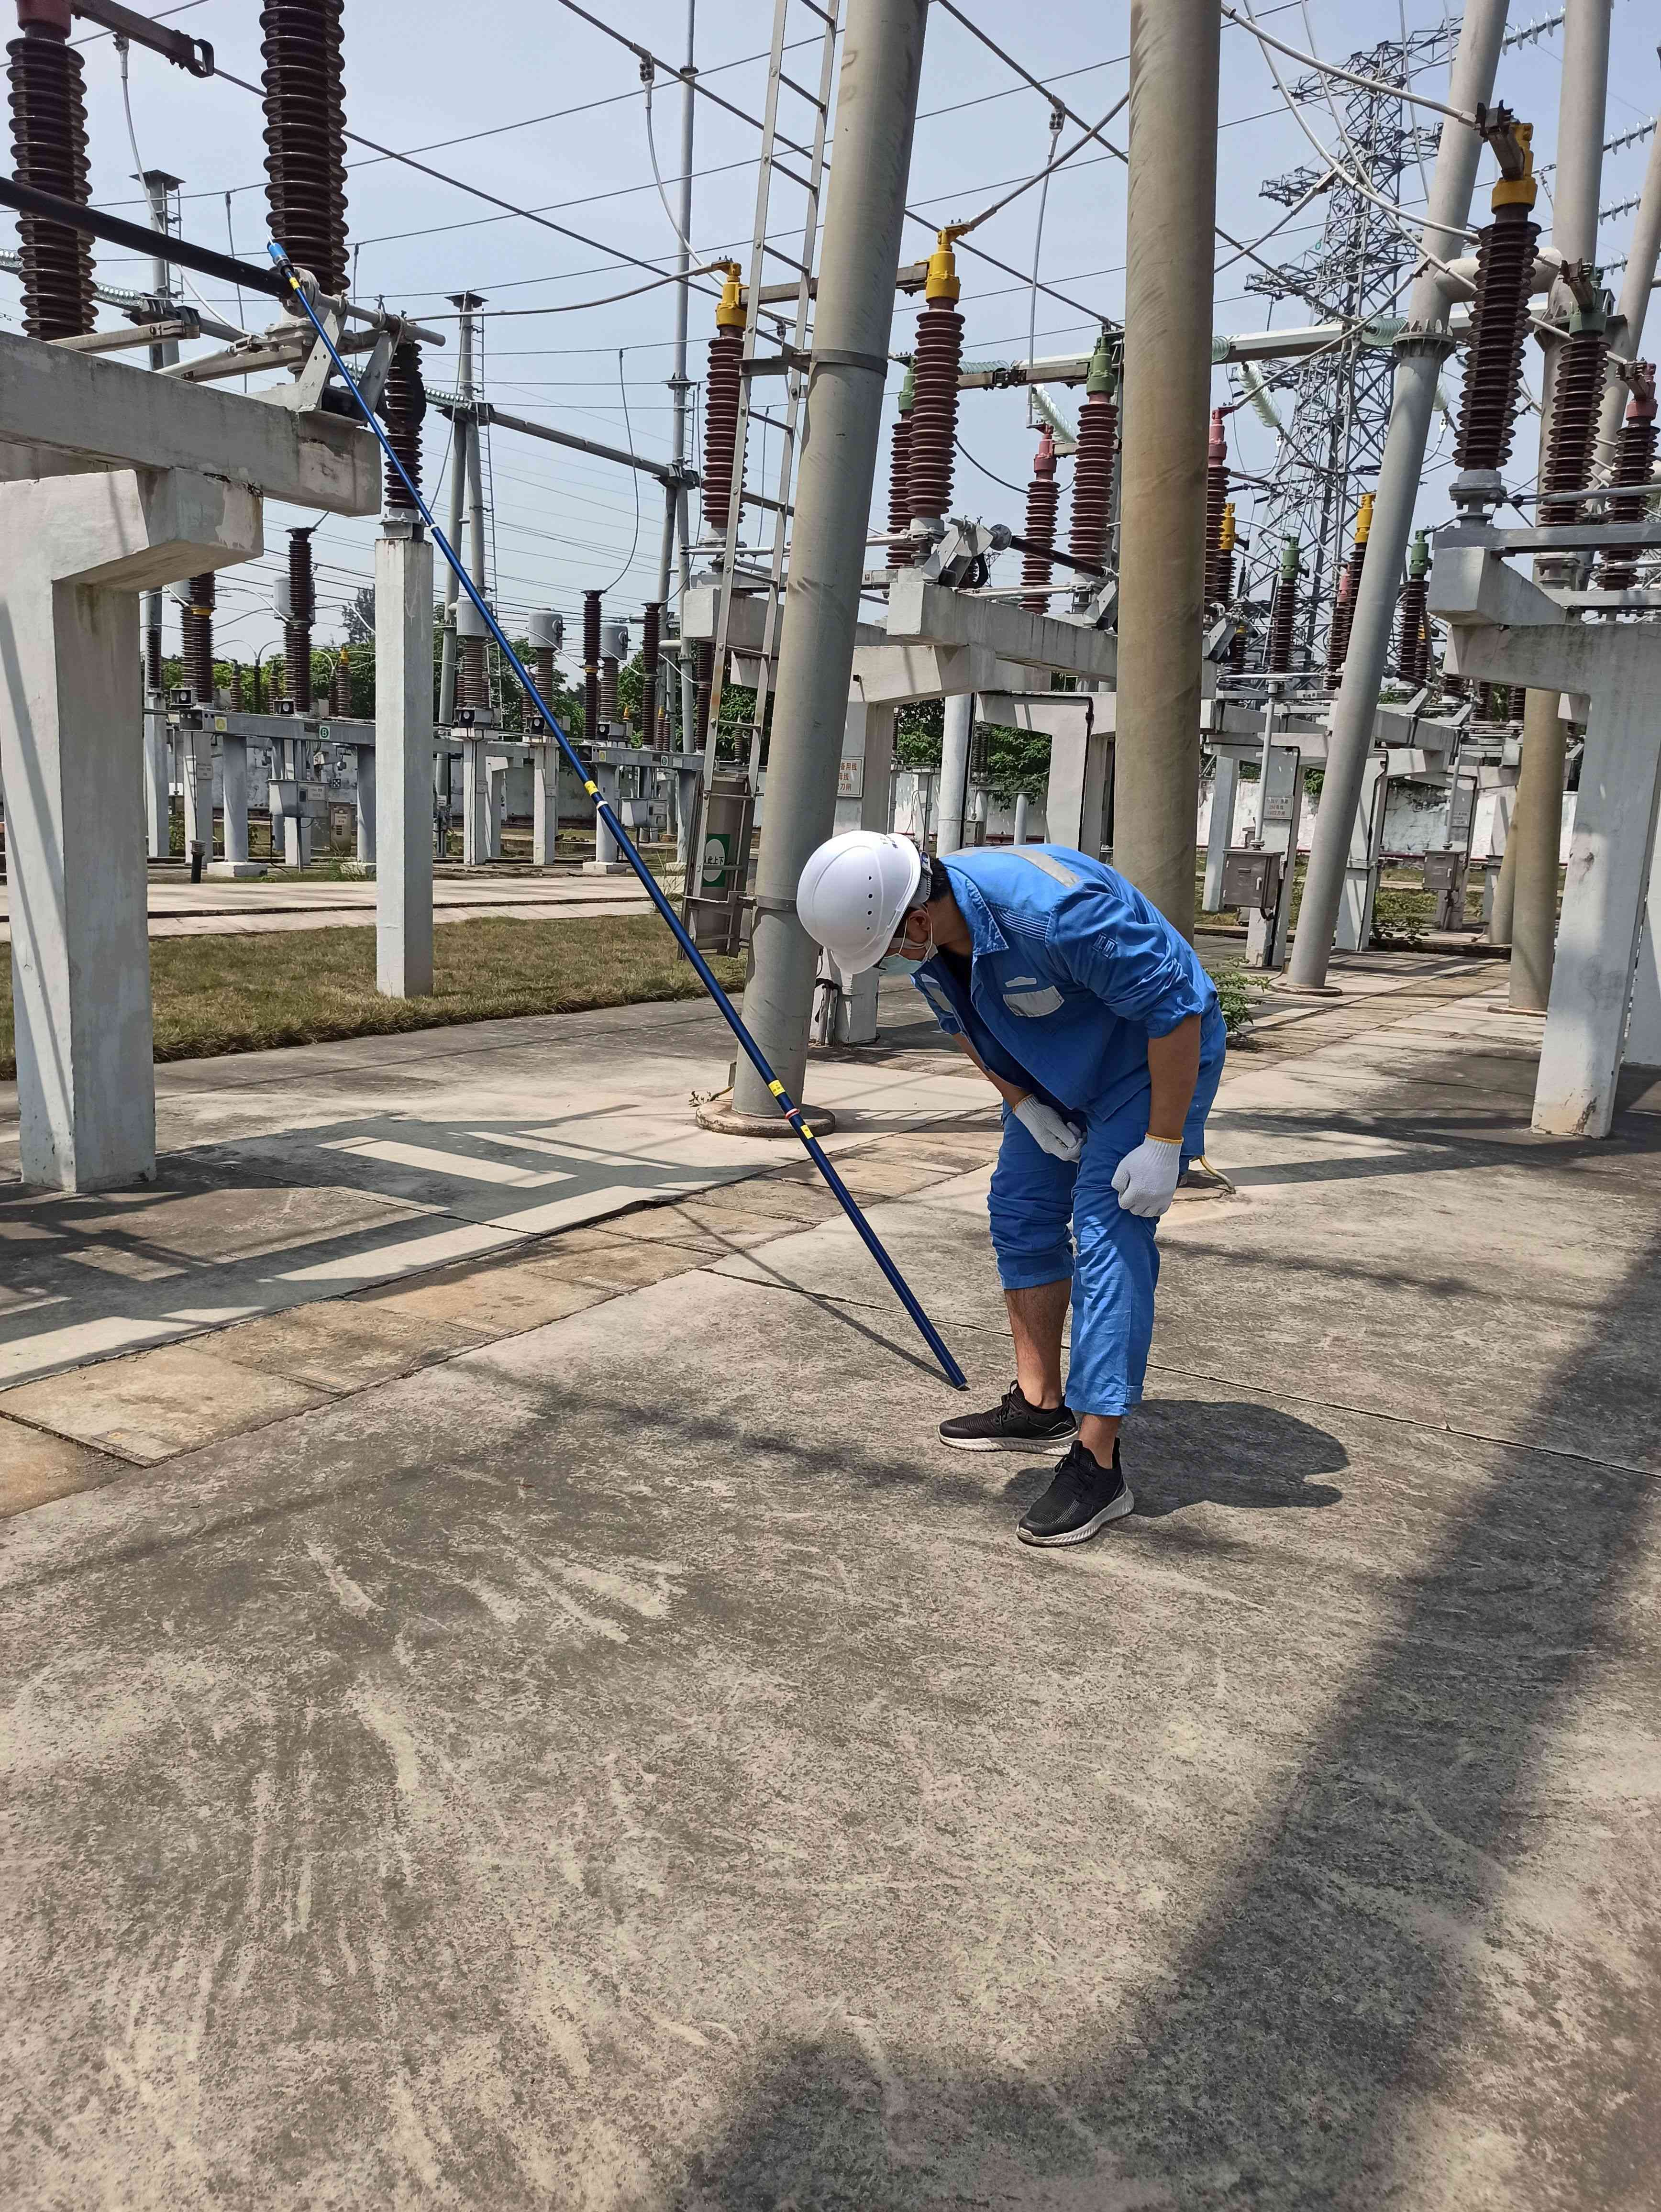downsuit: (986, 1097, 1185, 1420)
upsuit: (925, 839, 1235, 1075)
wrongbottom: (991, 1235, 1077, 1404)
wrongsuit: (926, 959, 1099, 1127)
wrongtop: (1138, 996, 1216, 1151)
